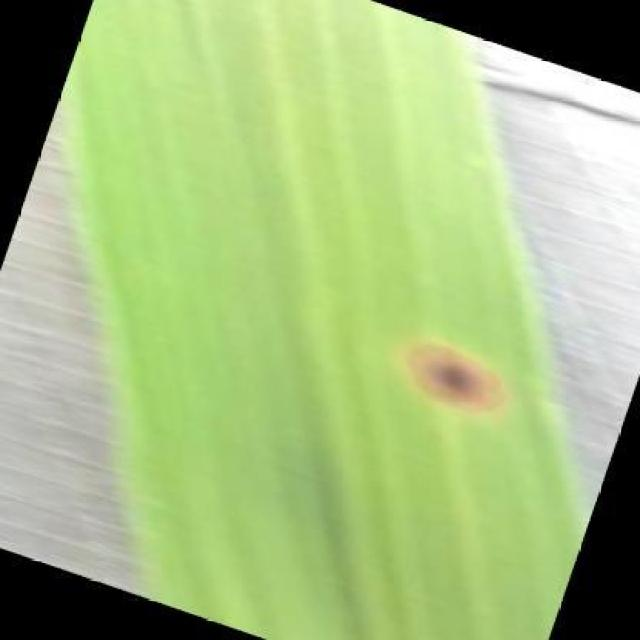Leaf_Blast: (368, 301, 526, 436)
